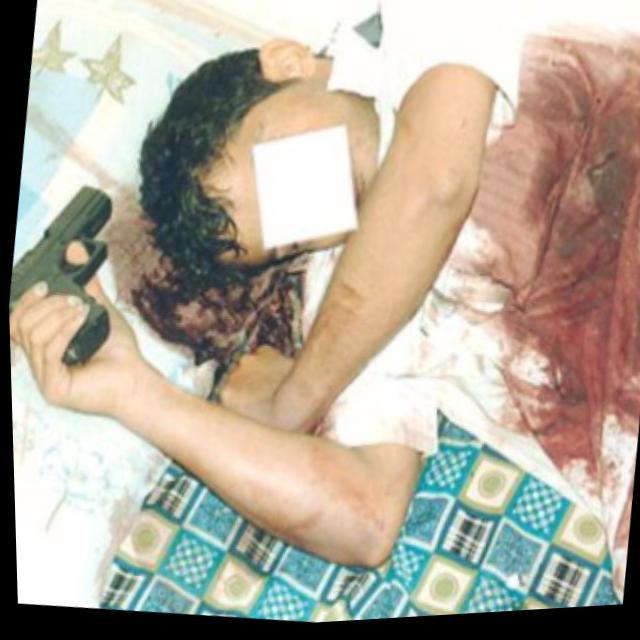weapon: (4, 174, 127, 374)
